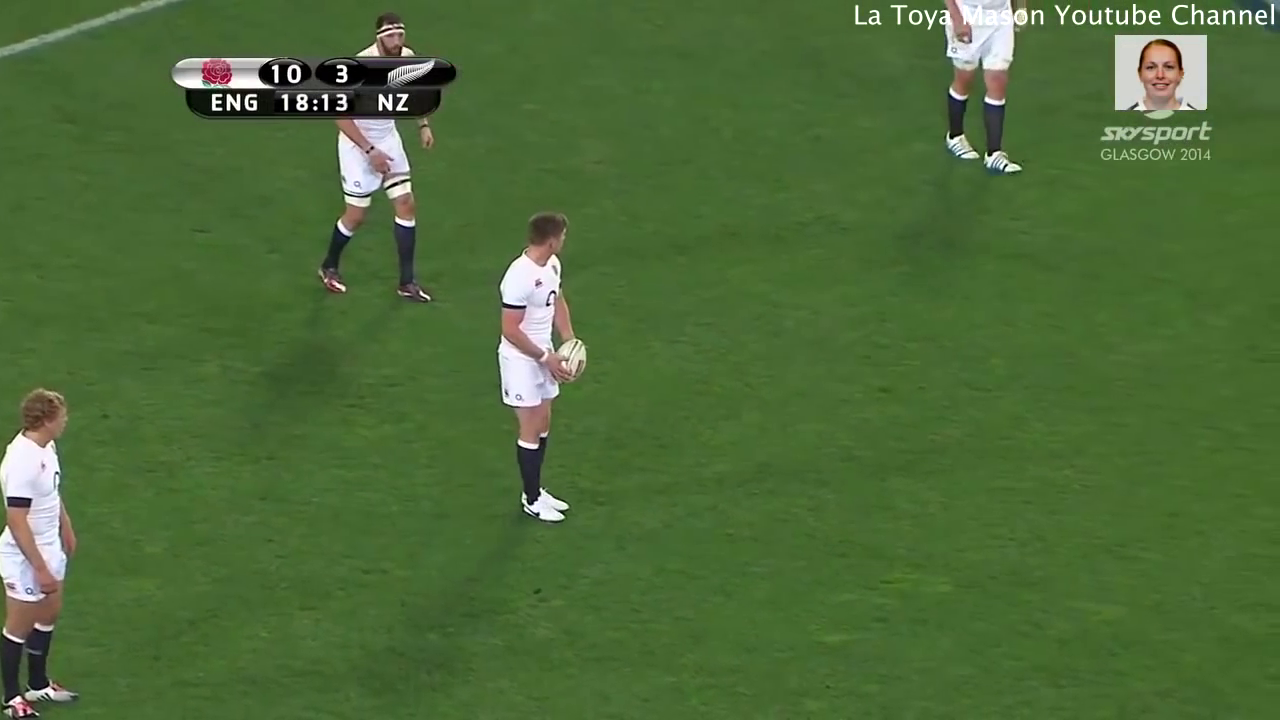ball: (549, 327, 595, 388)
player: (315, 12, 445, 311), (497, 203, 587, 539), (1, 388, 78, 720), (937, 1, 1031, 180)
